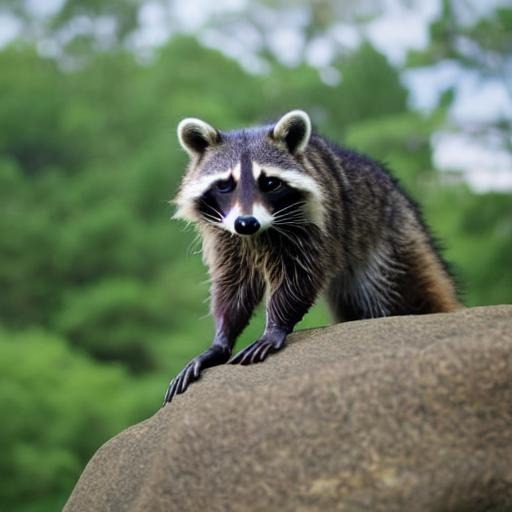raccoon: (162, 102, 464, 320)
